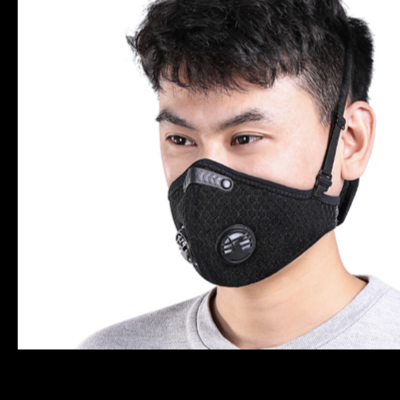with_mask: (155, 104, 342, 288)
